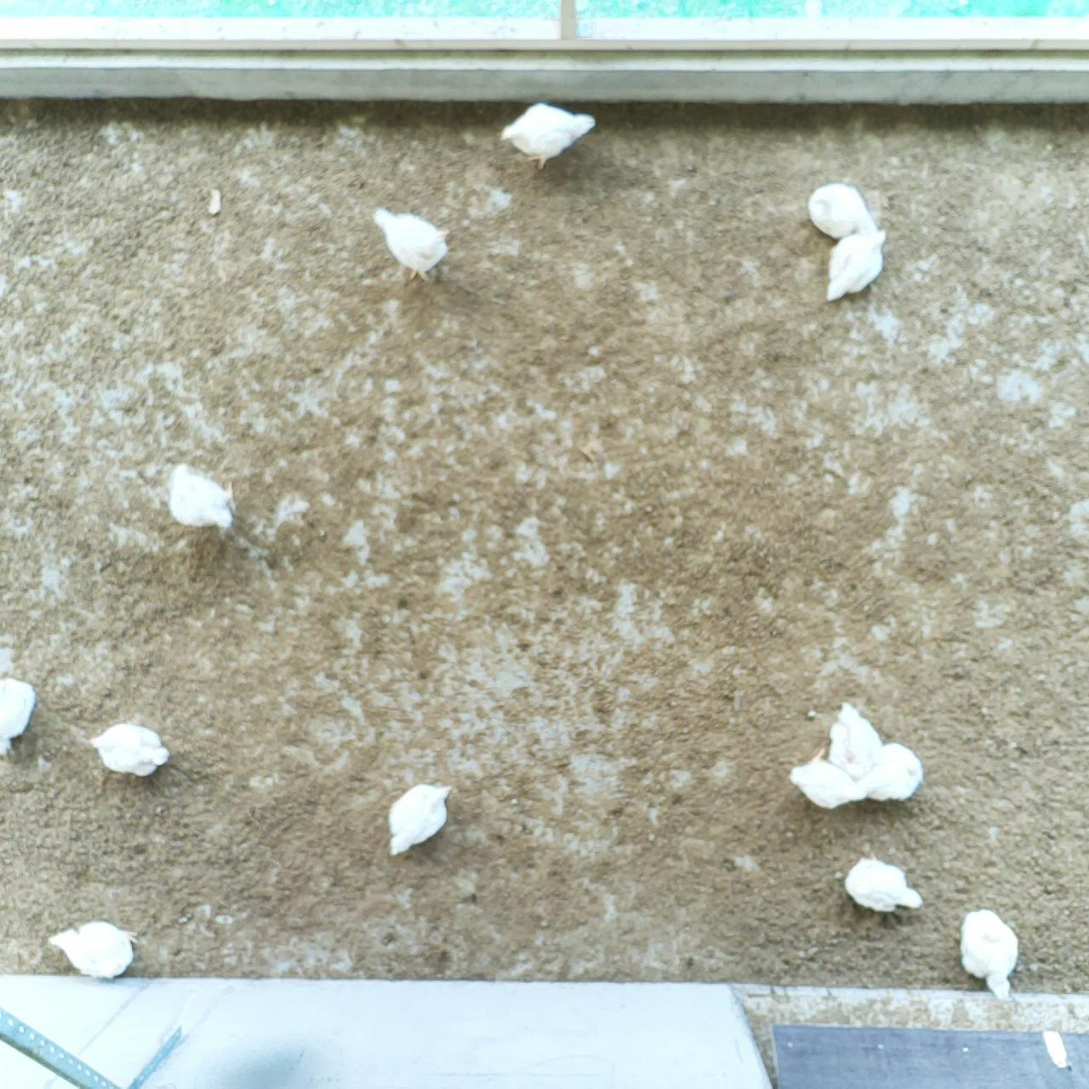chicken: (371, 208, 450, 285), (503, 104, 596, 167), (386, 780, 456, 857), (49, 922, 143, 979), (961, 908, 1020, 998), (169, 463, 237, 533), (847, 851, 924, 911), (793, 743, 857, 815), (805, 181, 884, 239), (87, 724, 173, 777), (825, 232, 888, 302), (827, 698, 884, 773), (856, 743, 925, 802), (0, 674, 39, 748)
